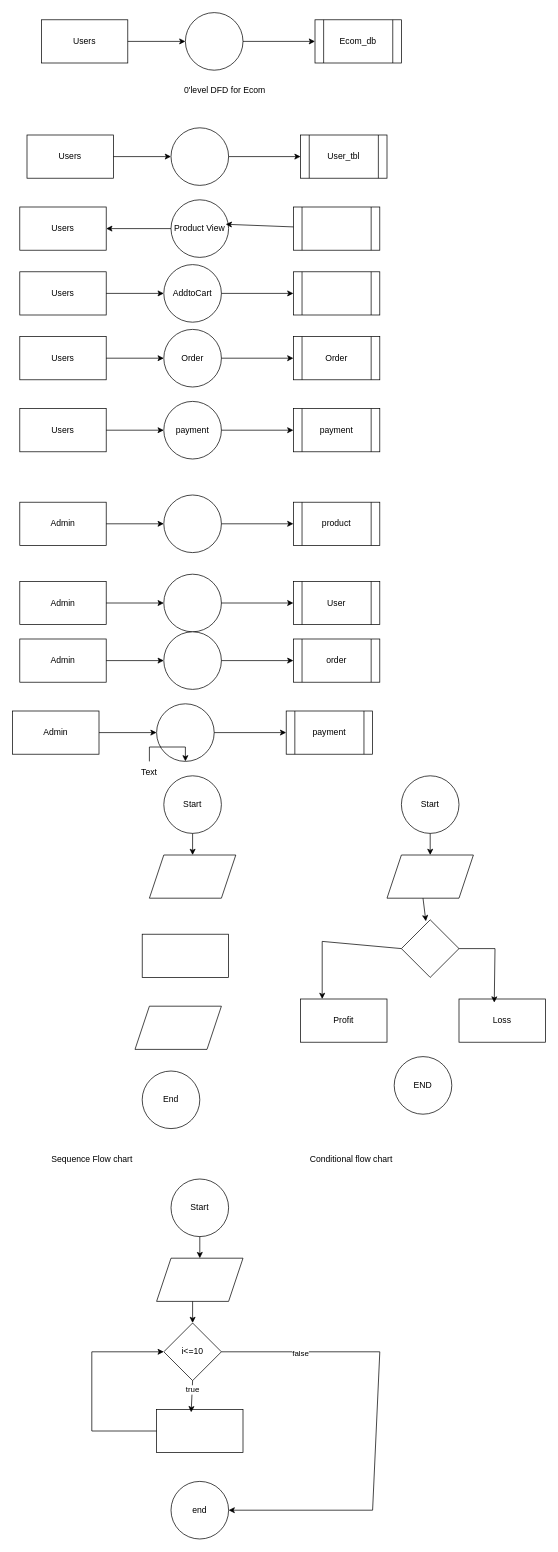
Some shapes in this 558 by 1552 pixel diagram are drawn without their labels. Here are the shapes that lost their labels. From the top down, the centre of each, then its label:
At [214,41]: "Ecom".
At [199,156]: "Register/Login".
At [336,228]: "Product_tbl".
At [336,293]: "cart_tbl".
At [192,523]: "Manage Product".
At [192,602]: "Manage User".
At [192,660]: "Manage order".
At [185,732]: "Manage payment".
At [192,876]: "Enter num1,num2".
At [429,876]: "Enter CP,SP".
At [185,955]: "Num3=num1+num2".
At [430,948]: "SP>CP".
At [177,1027]: "Output: num3".
At [199,1279]: "i=1".
At [199,1431]: "print i i++".
